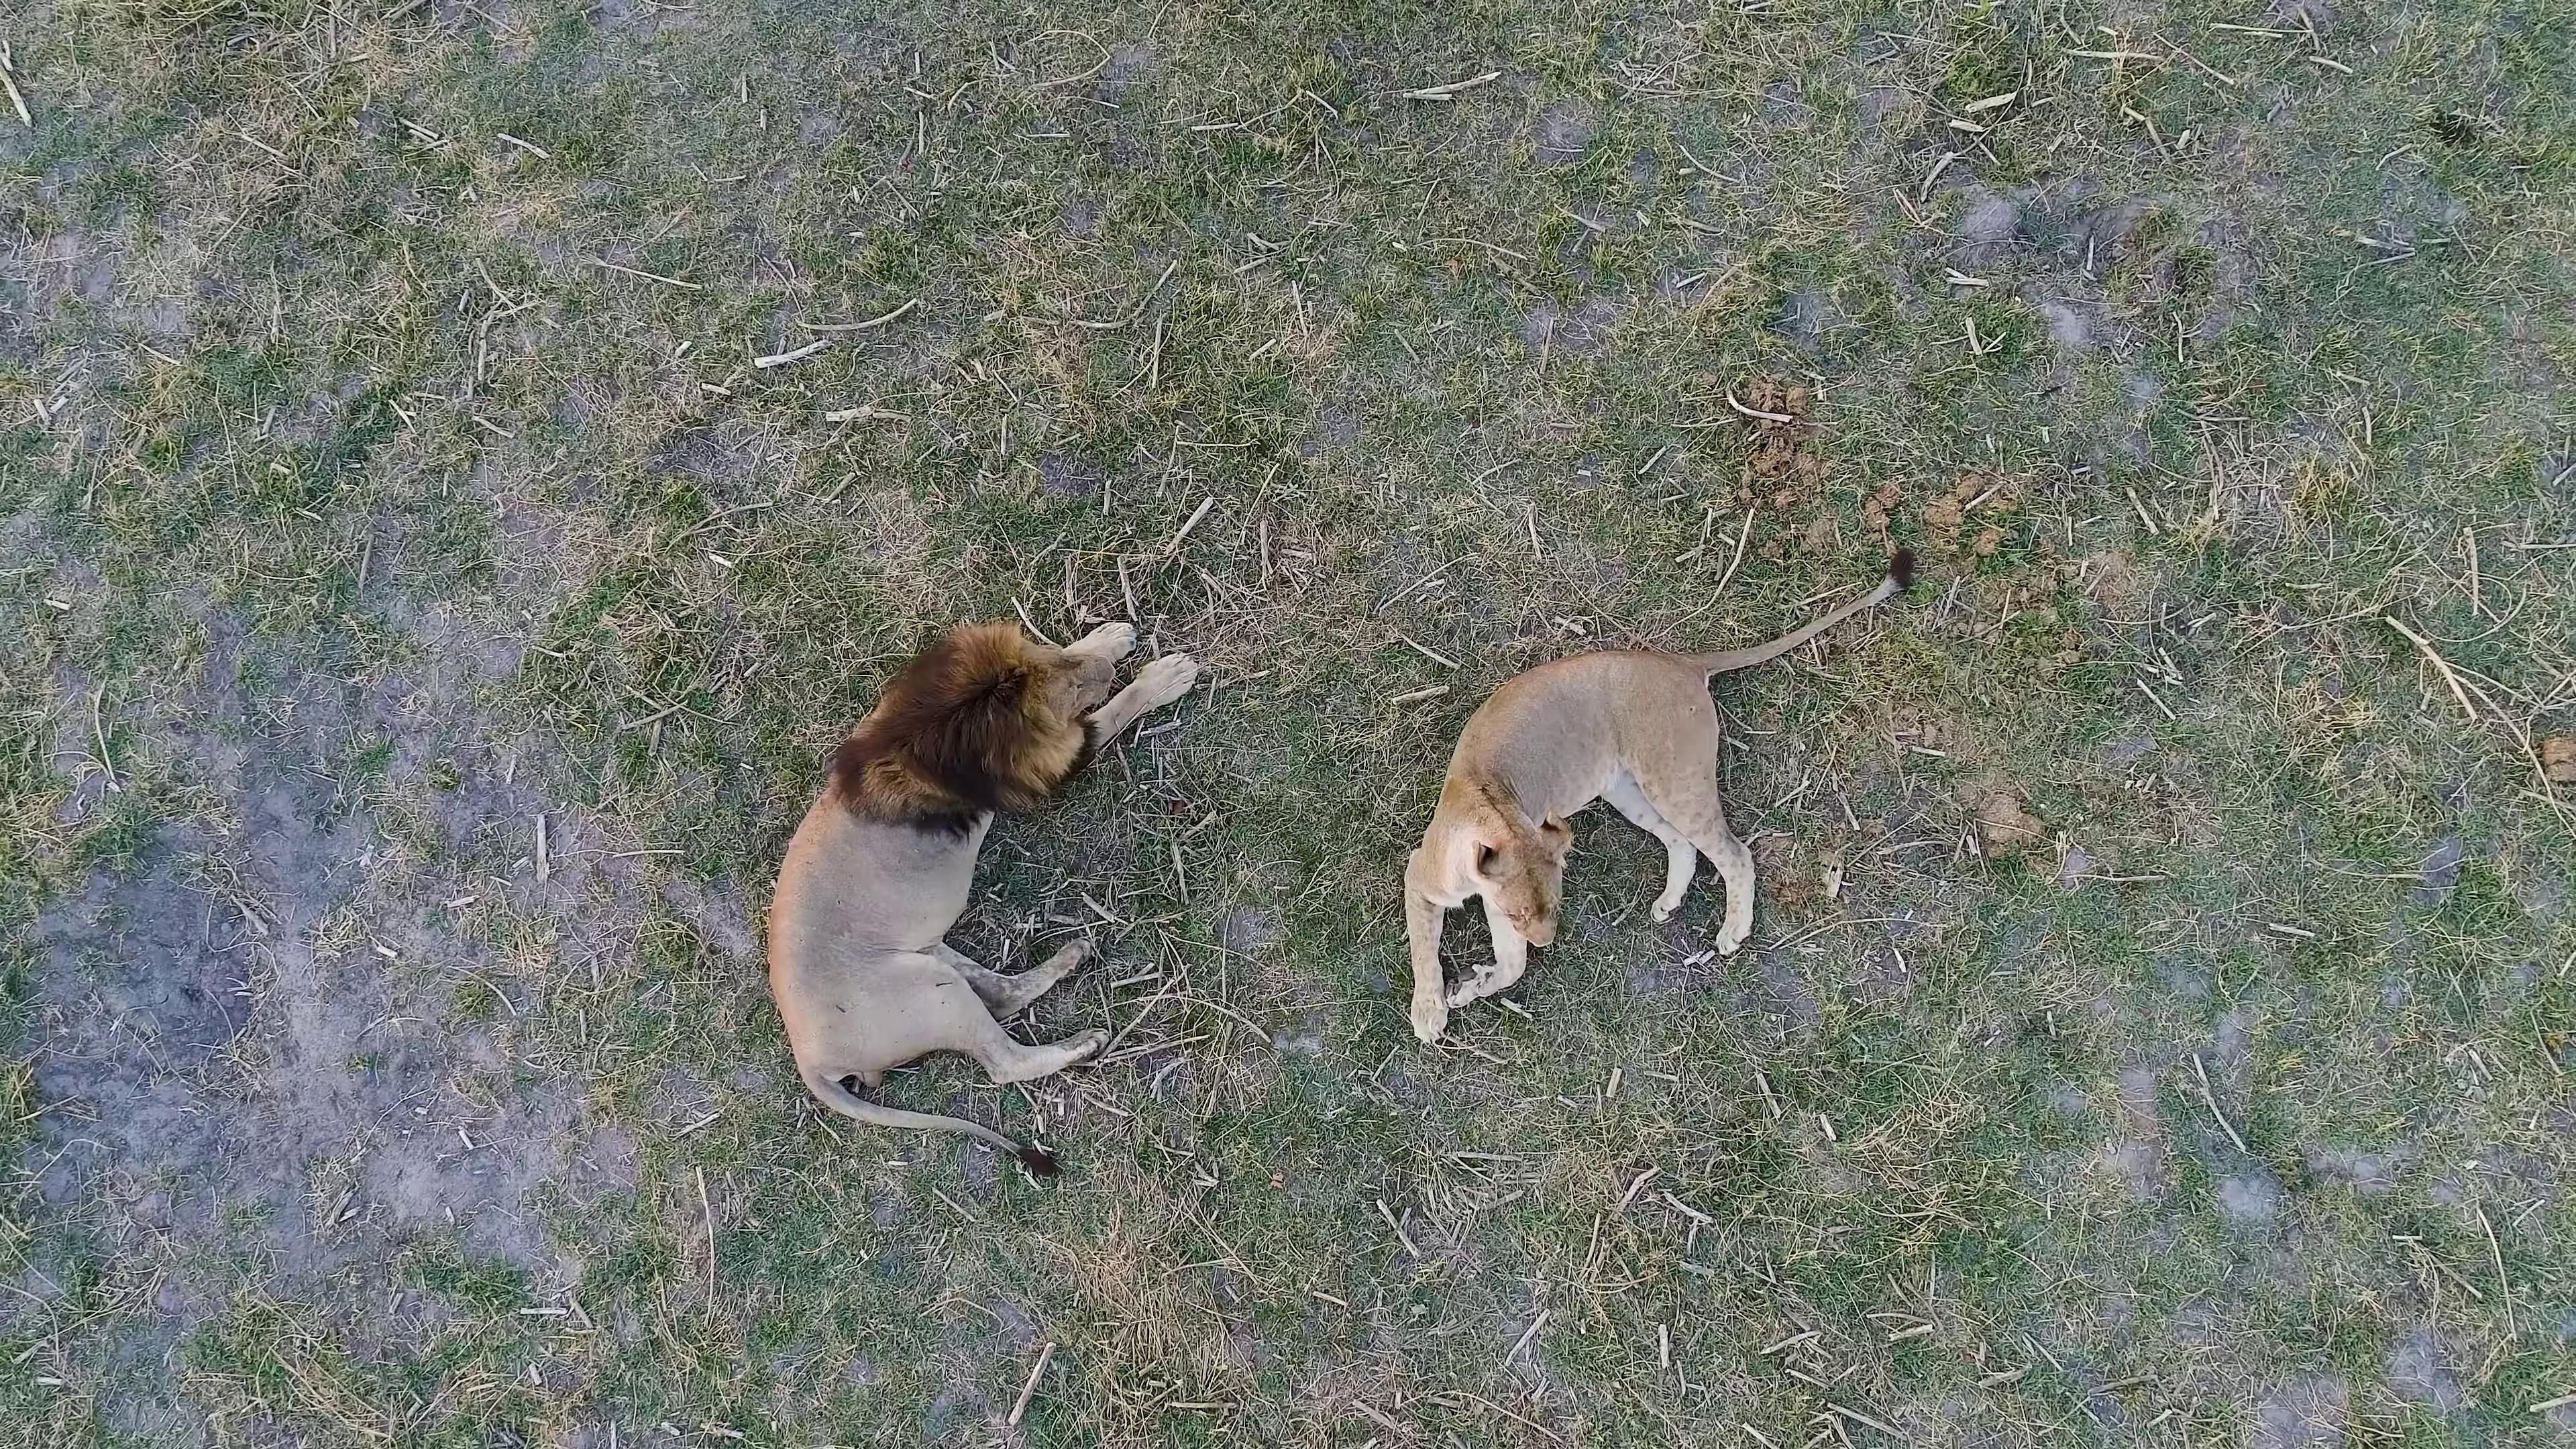lion: (745, 557, 1224, 1164)
lioness: (1352, 497, 1990, 1069)
